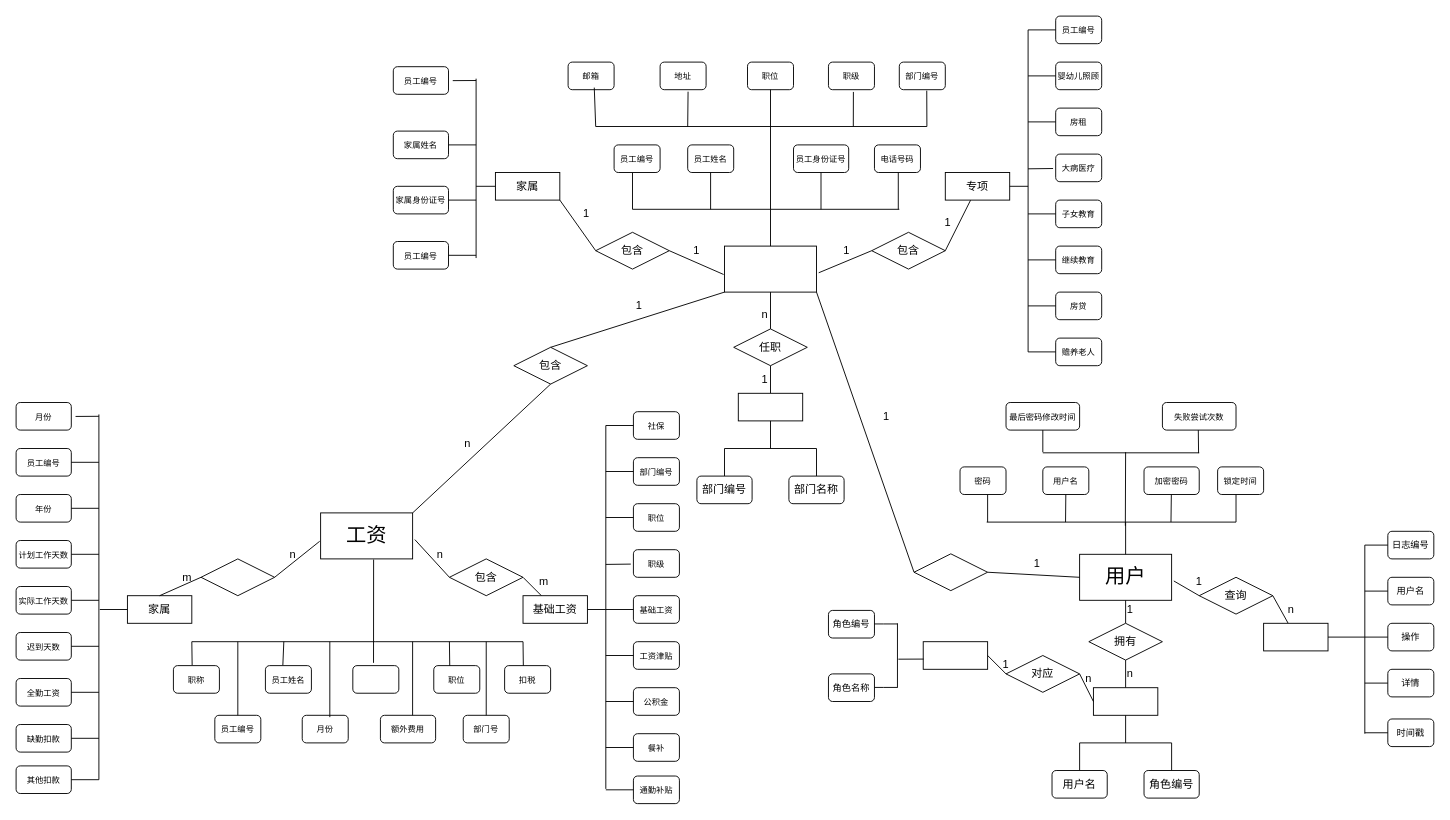
Some shapes in this 1450 by 820 pixel diagram are drawn without their labels. The shapes that lost their labels are listed below. From the top down, each one's centre as x and y in pixels, then its label:
At point (770, 268): "员工".
At point (770, 406): "部门".
At point (237, 577): "依据".
At point (950, 572): "使用".
At point (955, 655): "角色".
At point (1295, 636): "日志".
At point (375, 679): "实发工资".
At point (1125, 701): "用户角色".
